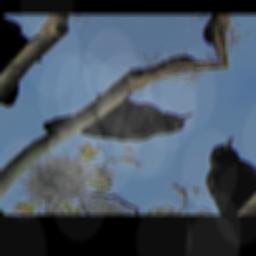Crow: (38, 62, 197, 179)
